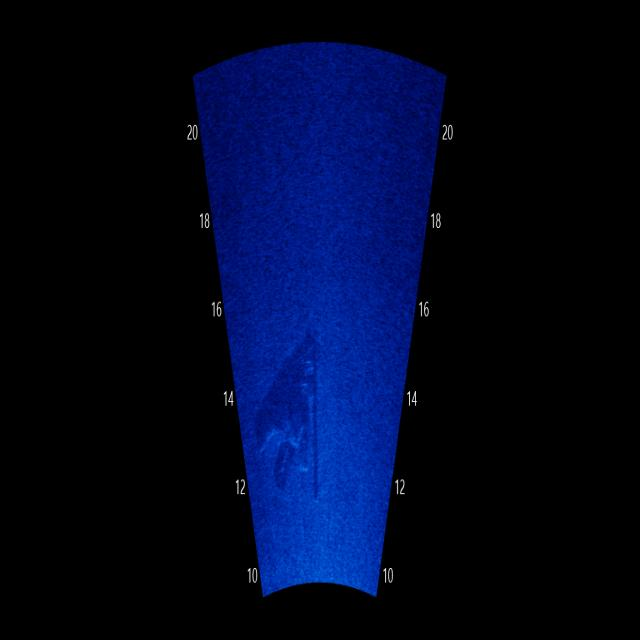triangle: (250, 327, 341, 507)
